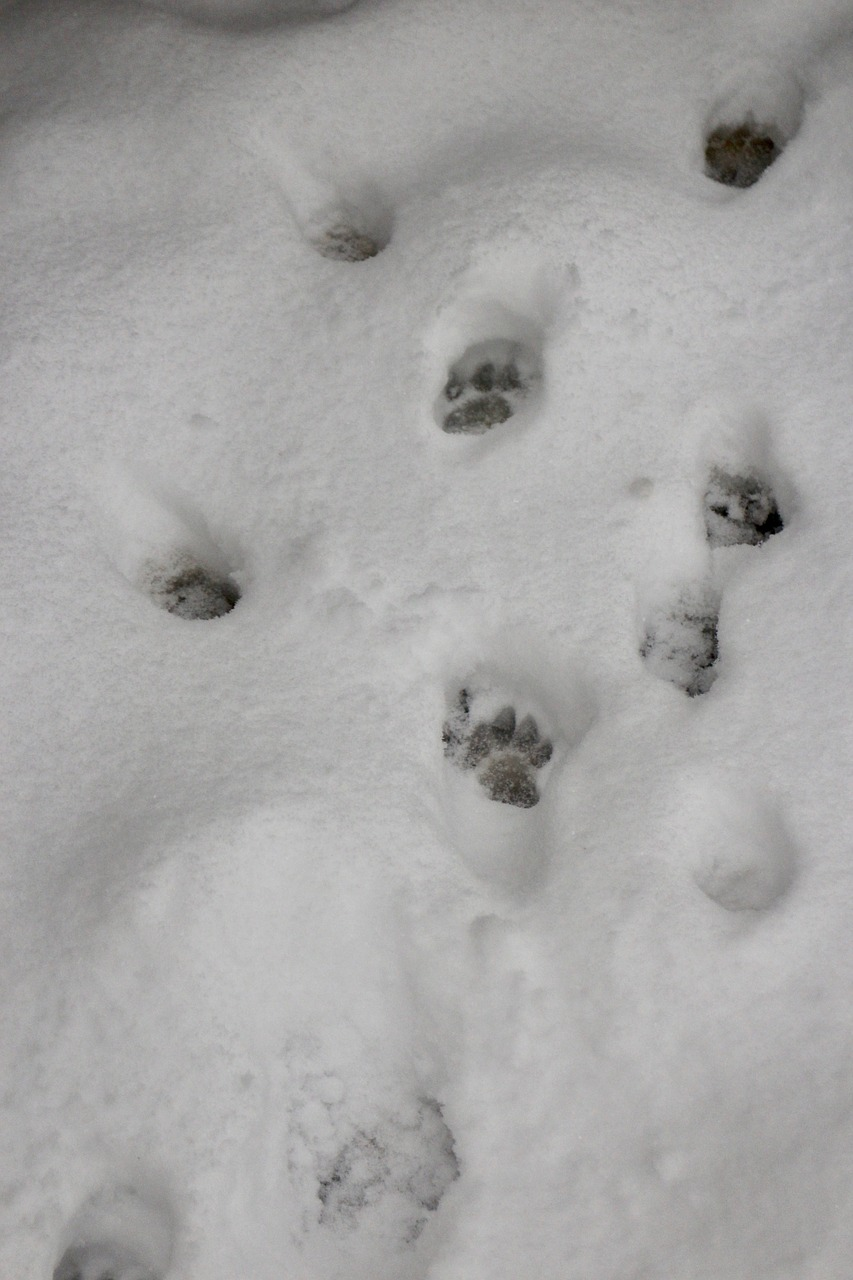cat: (446, 704, 559, 824), (435, 356, 539, 443)
